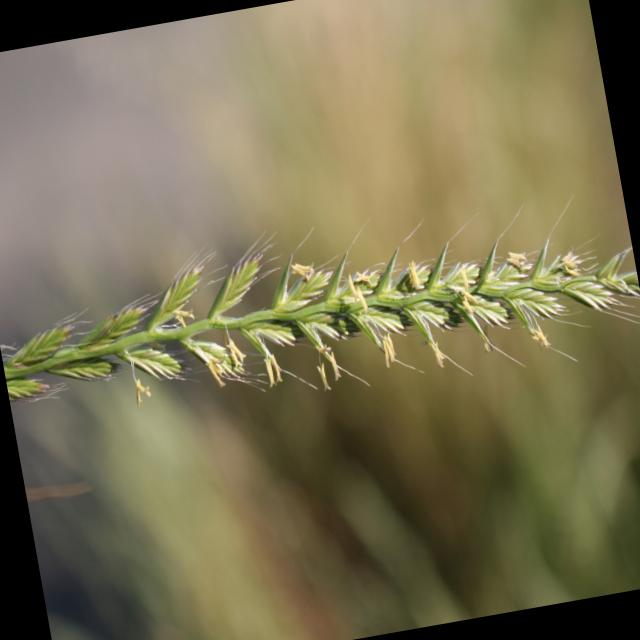Lolium: (0, 166, 640, 463)
